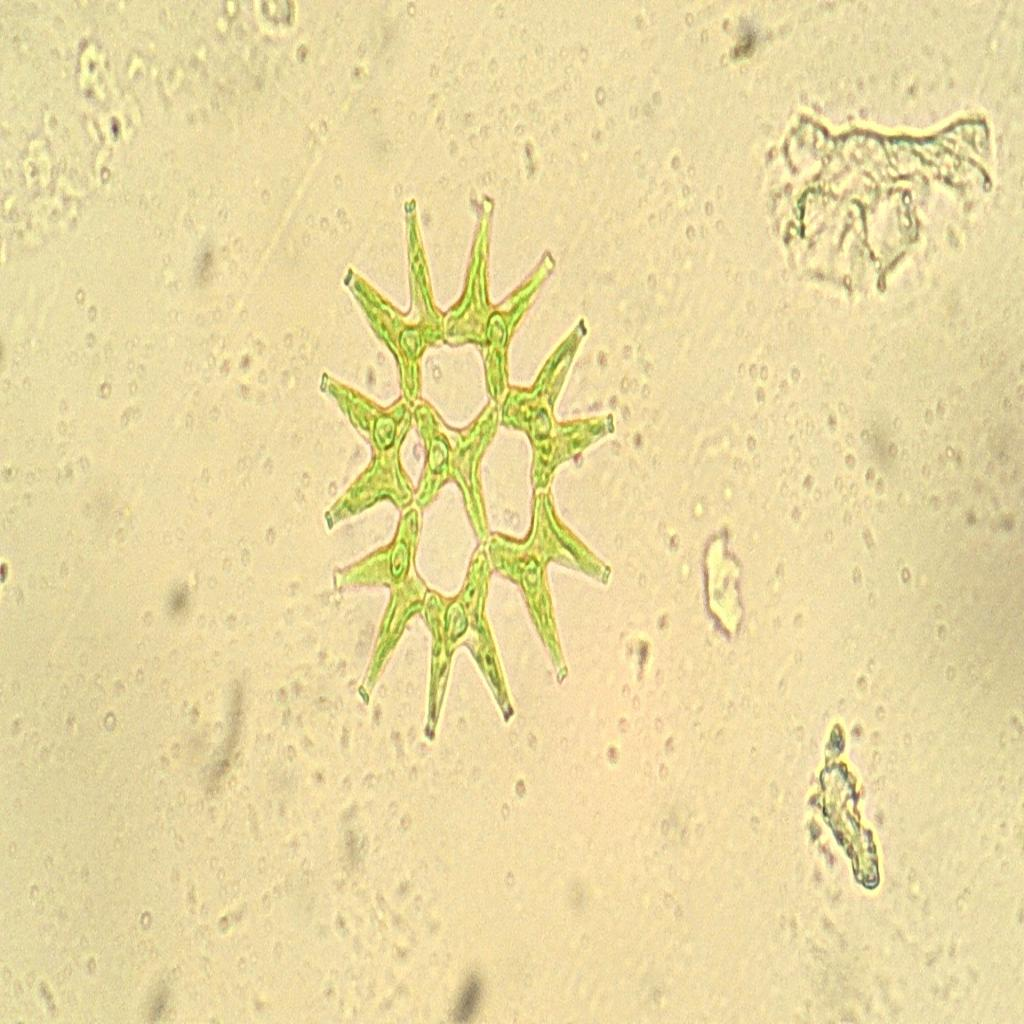Pediastrum_75T: (312, 178, 626, 750)
